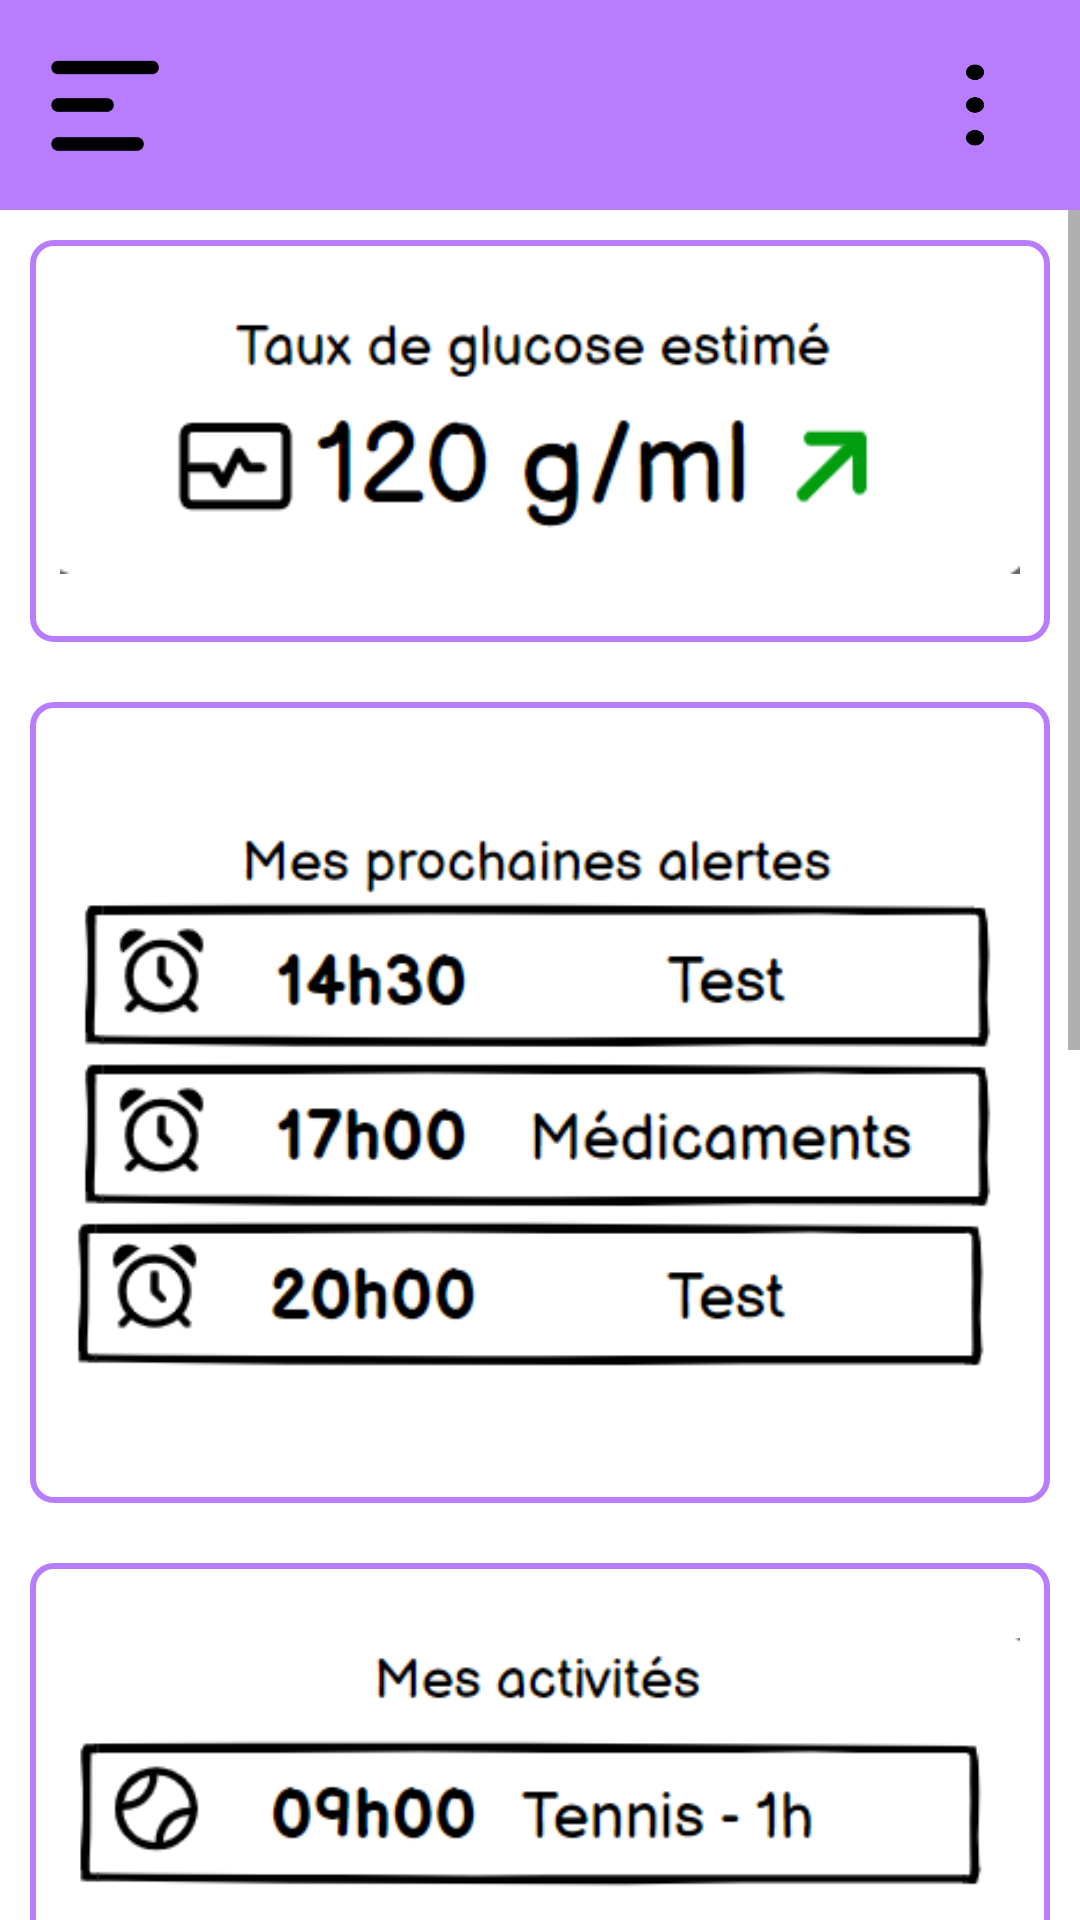

Point at icon controls on the screen. Image size 1080w x 1920h, points as (x,y).
menu: (105,105)
threedots: (975,105)
